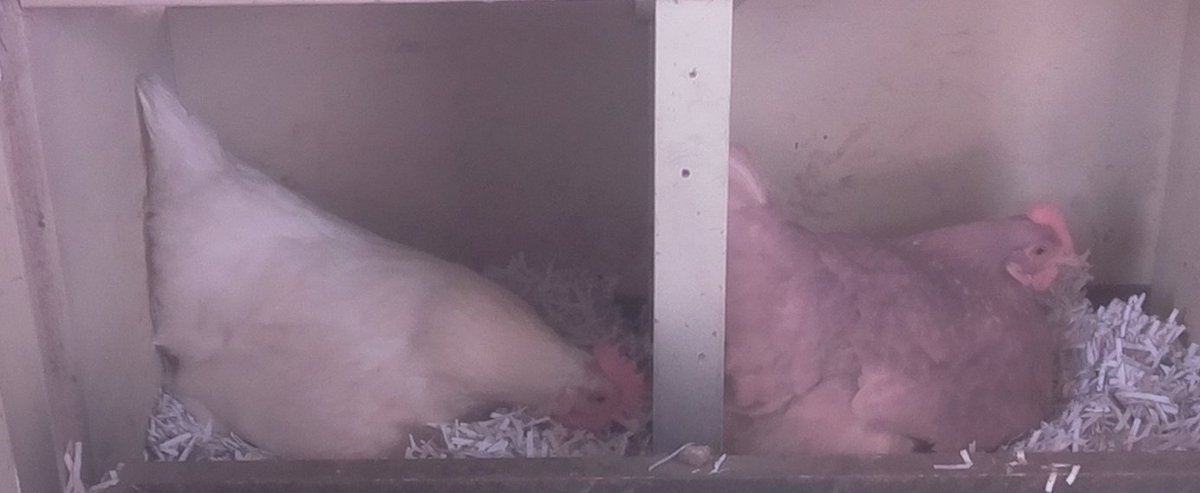hen: (129, 65, 653, 455), (724, 199, 1091, 450)
